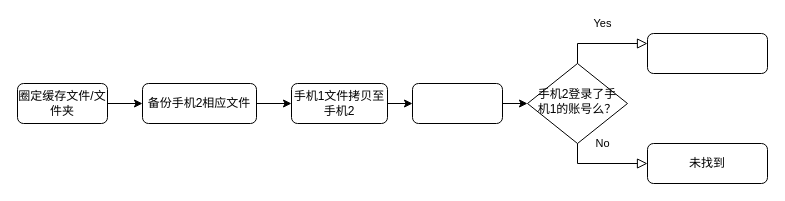
The diagram is 785 pixels wide and 201 high, and some of its shapes have lost their labels. The centre of each missing label's shape, as x and y in pixels:
找到: (707,53)
更新文件的用户和用户组: (457,103)
